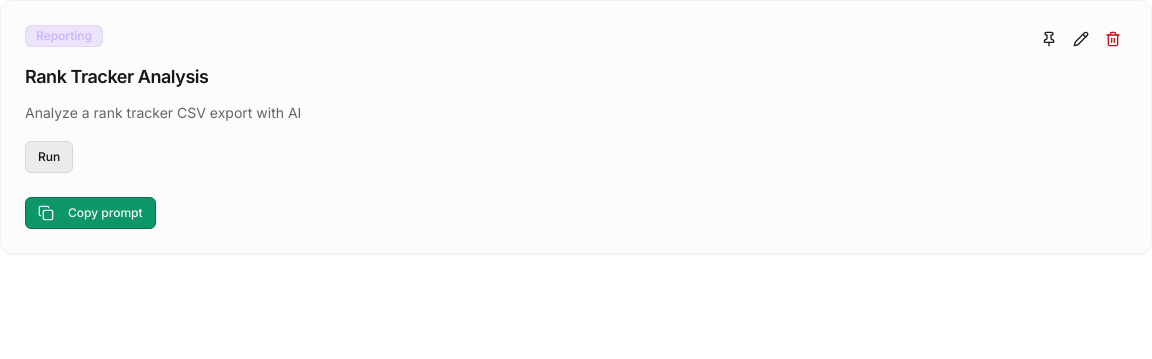
it: WorkflowCard - RankRocket MCP run › POSTs to /api/workflows/:id/run and renders the response (no acceptsFileUpload needed)
Click the button with test id "button-run-prompt-7": (49, 156) left=25, top=140, right=73, bottom=172
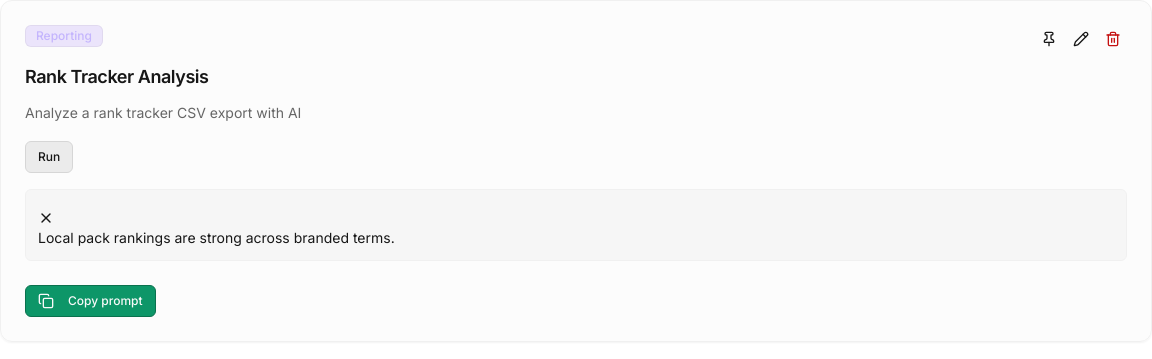
Result: the text "Local pack rankings are strong across branded terms." is shown at left=38, top=228, right=395, bottom=246
